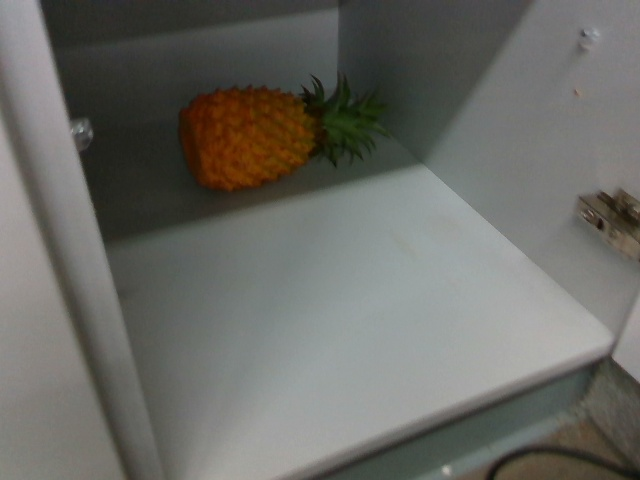pineapple: (177, 77, 395, 187)
